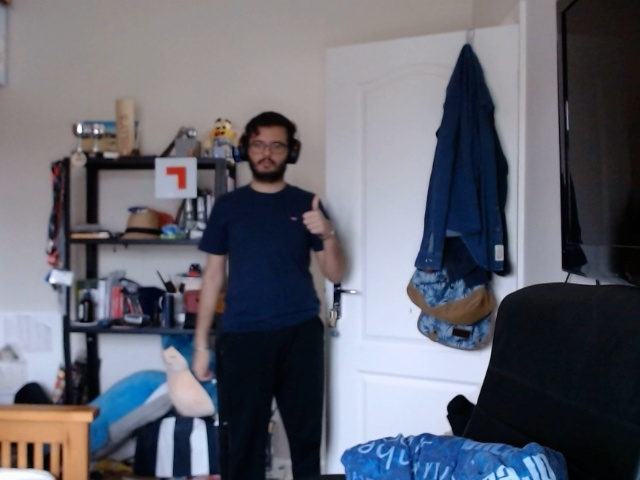Thumbs up: (299, 186, 333, 244)
